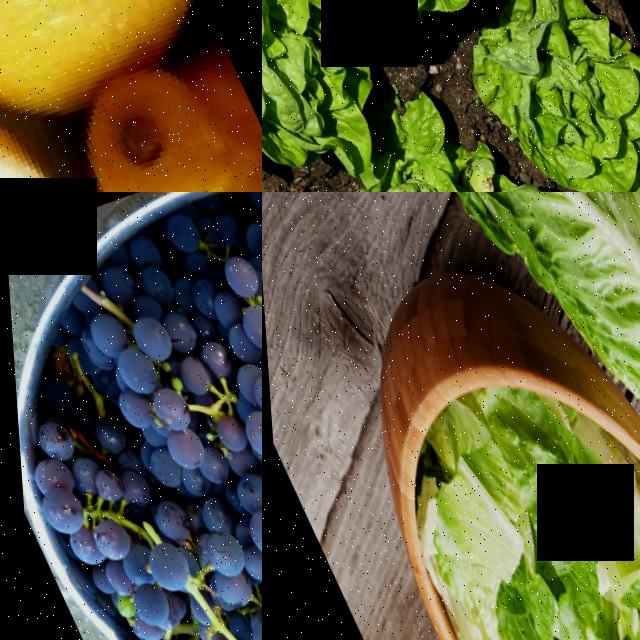grapes: (36, 367, 262, 640)
lemon: (22, 23, 262, 192), (0, 0, 199, 192)
lettuce: (411, 392, 640, 640), (450, 0, 640, 192), (434, 192, 640, 366), (299, 86, 559, 192), (262, 0, 354, 178), (262, 0, 503, 59), (564, 118, 640, 192)
